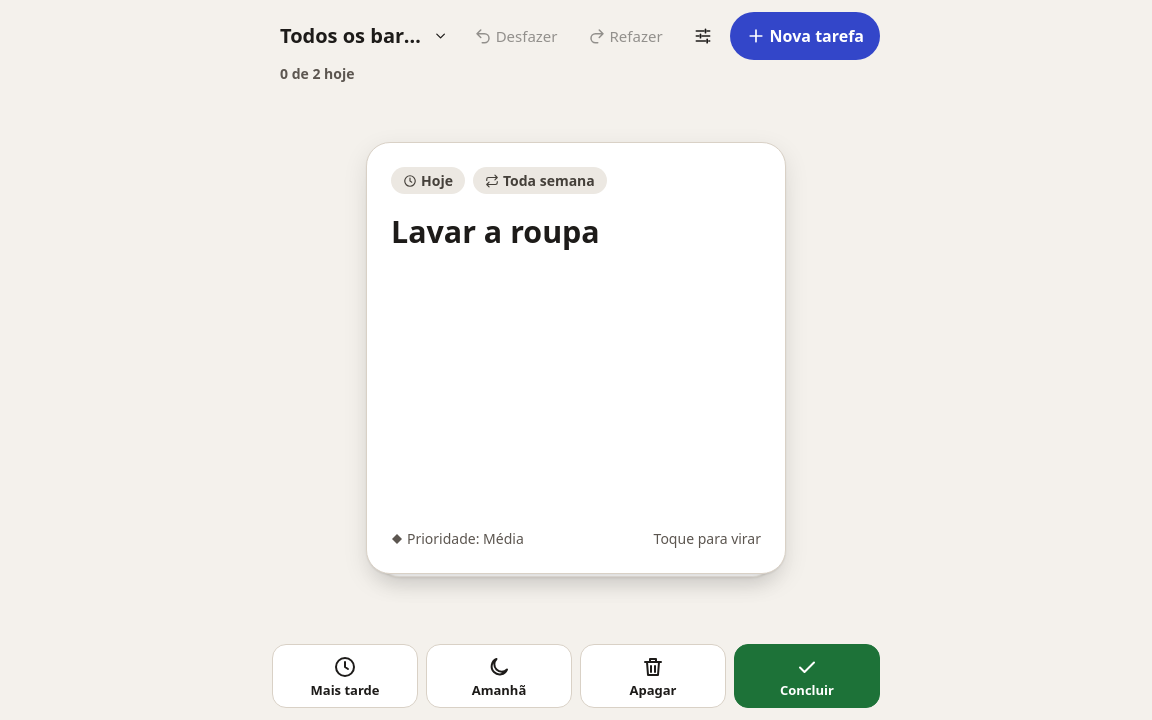
Test: recurring cards only on their day › a completed recurring card leaves the deck and shows up in "Agendadas"; progress moves on
Click the button "Concluir" at (807, 676), box left=734, top=644, right=880, bottom=708
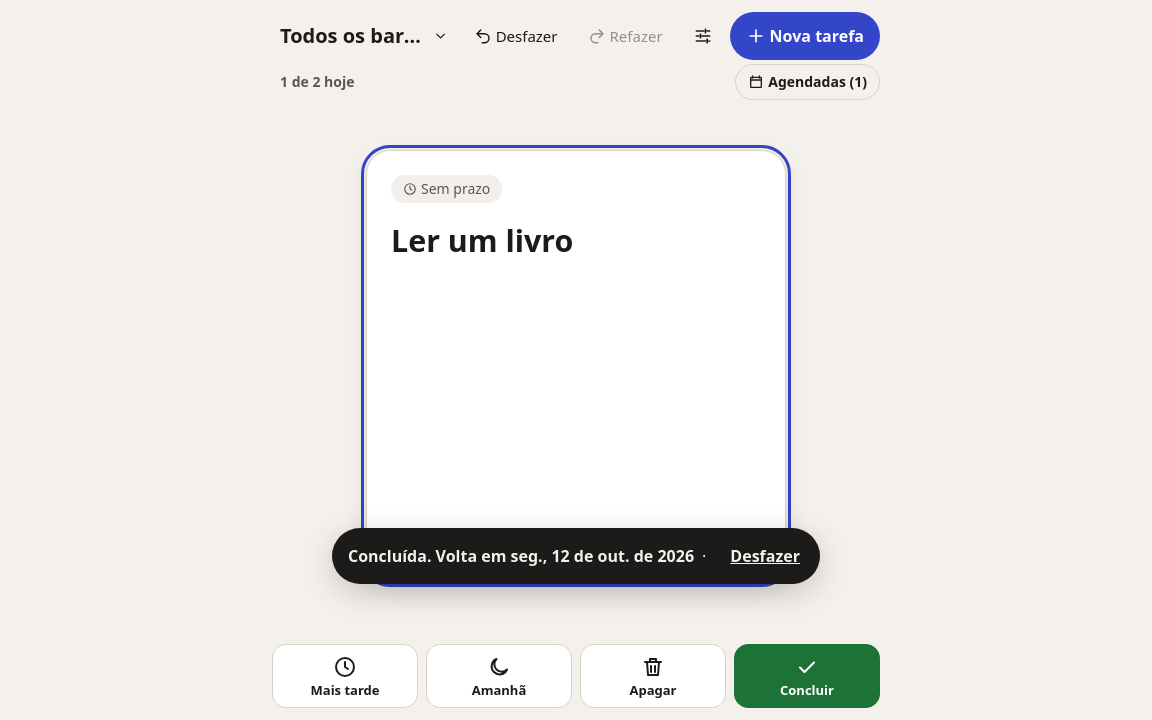
Now the text with test id "daily-progress" reads "1 de 2 hoje", box left=280, top=72, right=354, bottom=91
Click the button with aria-label "Agendadas: 1 carta" at (808, 82), box left=735, top=64, right=880, bottom=100
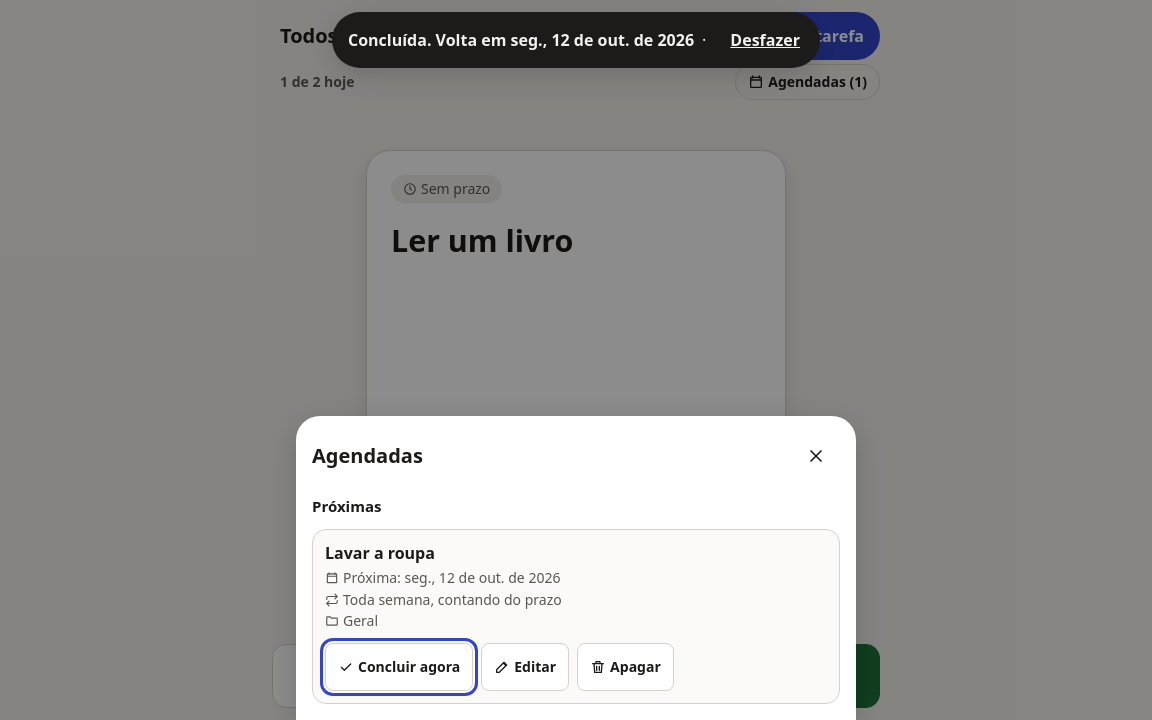
Now the heading "Lavar a roupa" is shown, box left=325, top=542, right=435, bottom=564
